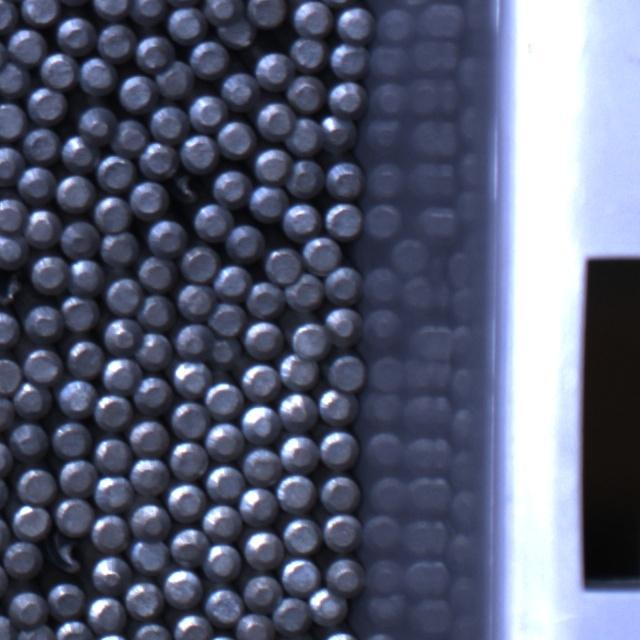tool: (278, 390, 318, 430), (55, 16, 95, 56), (61, 220, 101, 260), (302, 234, 341, 274), (54, 497, 93, 537), (277, 474, 316, 514), (148, 217, 188, 256), (243, 530, 282, 570), (194, 202, 234, 241), (254, 52, 294, 91), (165, 482, 204, 522), (168, 440, 207, 480), (164, 568, 202, 609), (191, 40, 230, 79), (280, 435, 319, 474), (151, 105, 190, 144), (29, 255, 68, 294), (6, 27, 45, 66), (283, 202, 322, 241), (226, 223, 265, 262), (155, 59, 194, 98), (123, 580, 162, 619), (211, 168, 249, 208), (11, 503, 51, 541), (320, 430, 360, 468), (28, 86, 68, 124), (283, 271, 323, 309), (139, 142, 179, 180), (307, 586, 347, 624), (10, 383, 50, 421), (134, 374, 172, 414), (241, 404, 279, 444), (79, 56, 117, 95), (327, 558, 366, 596), (3, 541, 42, 579), (179, 133, 217, 172), (324, 512, 363, 550), (118, 72, 157, 110), (56, 173, 95, 211), (95, 154, 134, 192), (58, 379, 96, 418), (318, 388, 357, 426), (212, 263, 251, 301), (201, 504, 240, 542), (92, 390, 131, 428), (91, 513, 130, 551), (129, 419, 168, 457), (244, 322, 284, 359), (24, 208, 61, 248), (21, 306, 61, 343), (328, 40, 368, 77), (96, 474, 136, 511), (8, 590, 48, 627), (130, 501, 170, 538), (264, 246, 302, 284), (240, 486, 278, 524), (327, 161, 365, 199), (130, 181, 168, 219), (326, 267, 364, 305), (218, 120, 256, 158), (281, 556, 319, 594), (78, 104, 116, 142), (206, 421, 244, 459), (258, 101, 296, 139), (17, 166, 55, 204), (202, 543, 240, 581), (47, 579, 85, 617), (58, 458, 96, 496), (242, 446, 280, 484), (130, 458, 168, 496), (321, 116, 359, 154), (324, 202, 363, 239), (287, 159, 324, 198), (135, 34, 174, 71), (329, 80, 368, 117), (336, 4, 375, 41), (60, 293, 99, 330), (292, 0, 332, 36), (180, 246, 220, 282), (278, 351, 318, 387), (100, 230, 140, 266), (97, 23, 134, 61), (94, 194, 132, 231), (272, 597, 310, 634), (172, 529, 209, 567), (85, 596, 123, 633), (66, 339, 103, 377), (326, 308, 363, 346), (89, 554, 127, 591), (248, 185, 286, 222), (23, 346, 62, 382), (17, 466, 56, 502), (322, 476, 361, 512), (167, 5, 206, 41), (8, 422, 47, 458), (129, 536, 168, 572), (66, 259, 103, 296), (207, 463, 245, 499), (41, 53, 79, 89), (288, 74, 326, 110), (329, 355, 367, 391), (204, 588, 242, 624), (282, 516, 320, 552), (188, 94, 226, 130), (242, 361, 280, 397), (254, 146, 292, 182), (204, 379, 242, 415), (243, 576, 281, 612), (92, 436, 130, 472), (173, 401, 211, 437), (51, 421, 90, 456), (112, 118, 149, 154), (222, 72, 258, 109), (292, 322, 330, 357), (285, 118, 320, 156), (248, 280, 284, 316), (105, 276, 141, 312), (178, 282, 214, 318), (22, 127, 59, 162), (137, 256, 175, 290), (104, 355, 142, 389), (105, 317, 140, 352), (174, 322, 210, 356), (291, 37, 327, 70), (208, 302, 244, 335), (137, 292, 174, 324), (0, 61, 30, 99), (201, 0, 248, 24), (246, 0, 287, 27), (234, 613, 274, 640), (172, 612, 210, 640), (0, 230, 27, 269), (145, 334, 173, 371), (206, 336, 238, 368), (20, 0, 60, 25), (0, 143, 24, 184), (0, 100, 25, 138), (130, 0, 166, 24), (0, 197, 25, 231), (54, 620, 94, 640), (0, 356, 22, 391), (0, 308, 20, 346), (176, 366, 204, 392), (134, 622, 173, 640), (89, 0, 129, 16), (15, 625, 55, 640), (0, 0, 18, 31), (1, 397, 16, 432), (0, 438, 13, 477), (322, 631, 361, 640), (0, 514, 8, 552), (0, 474, 8, 511), (95, 632, 131, 640), (0, 34, 6, 68), (205, 634, 238, 640)
tool_b: (46, 538, 85, 576), (170, 173, 206, 204), (0, 269, 24, 306)
